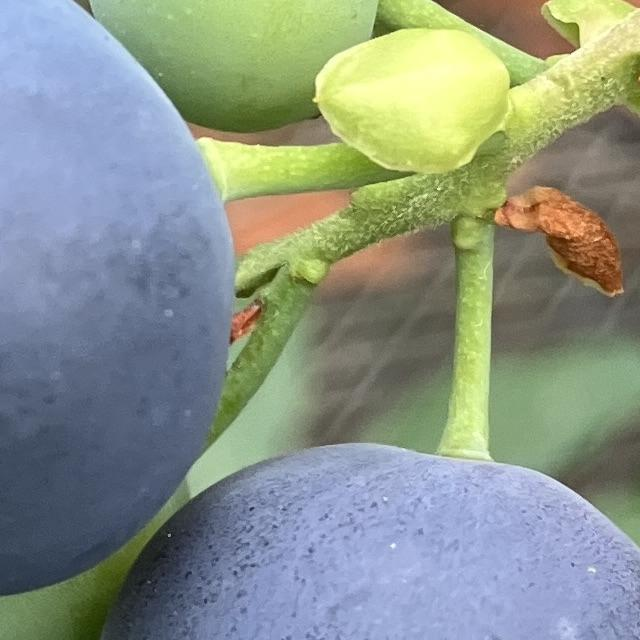Blueberries: (0, 0, 237, 598), (87, 438, 640, 640)
